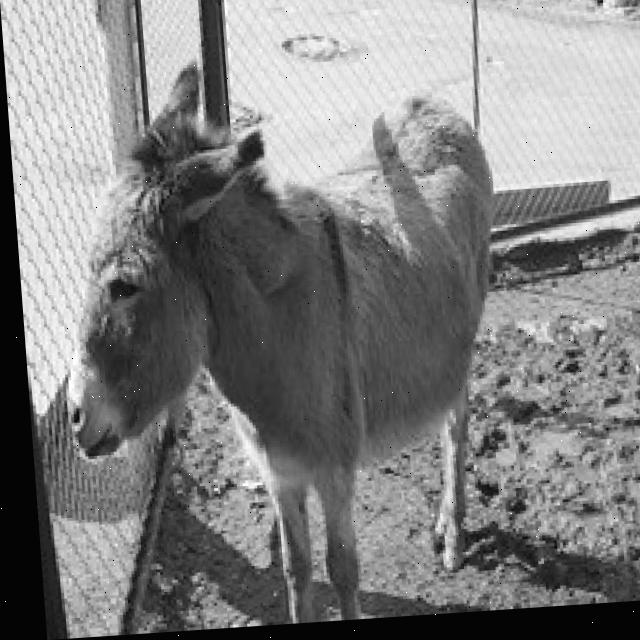Donkey: (39, 37, 524, 635)
